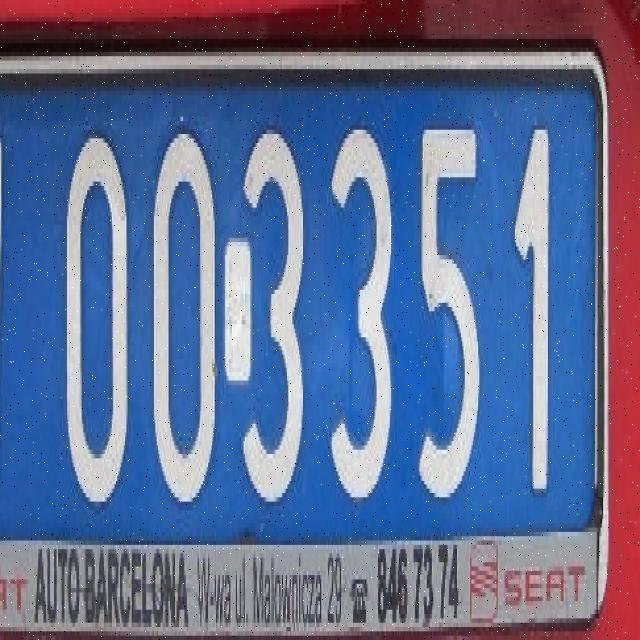licenseplate: (0, 9, 627, 640)
